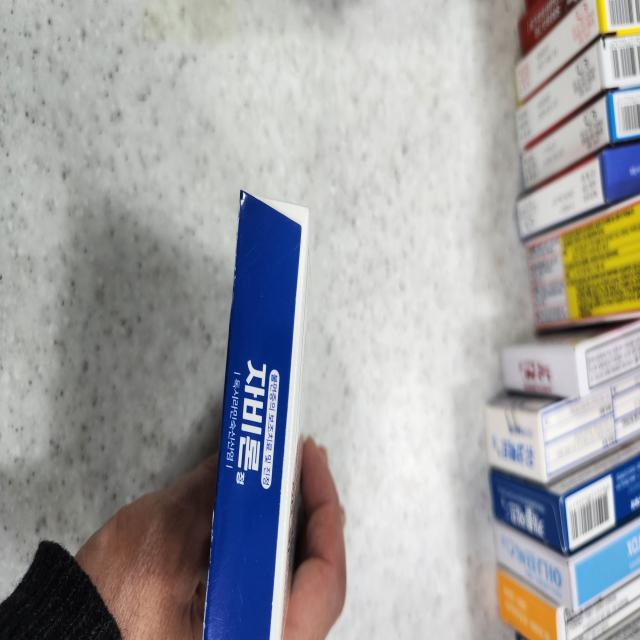box: (3, 194, 342, 639), (205, 194, 308, 636)
